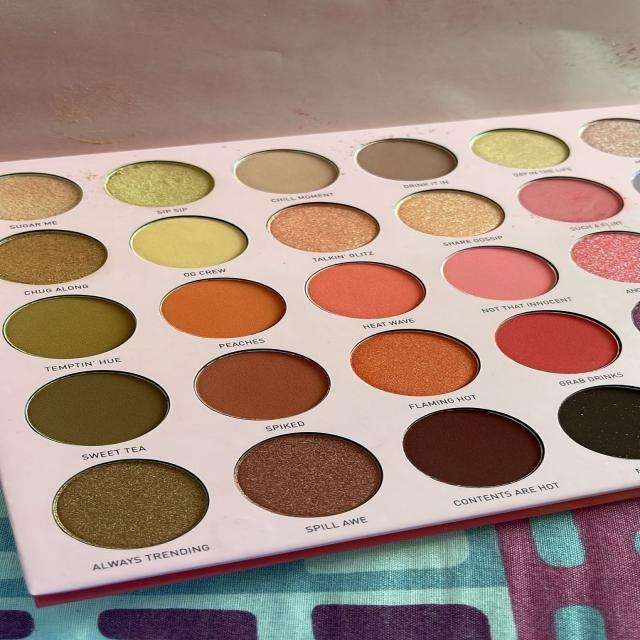eye shade: (0, 107, 640, 606)
